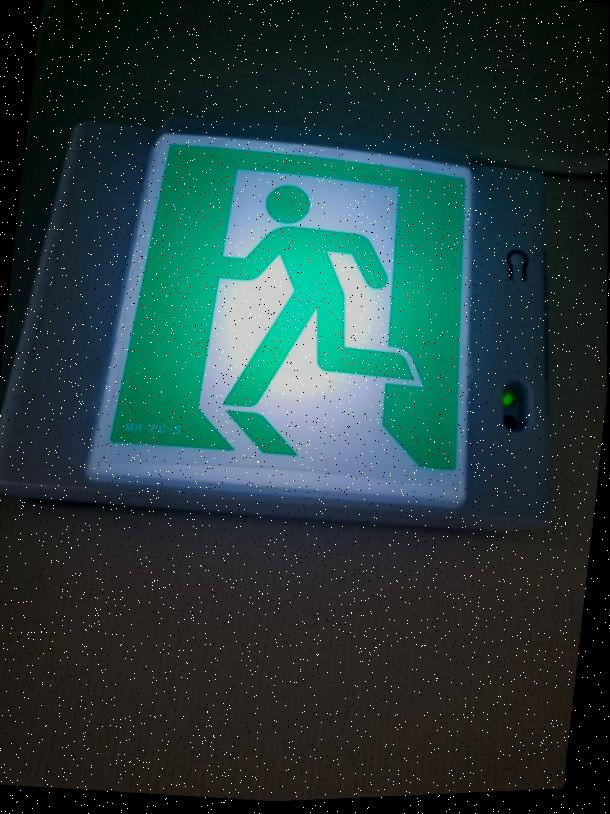emergency_exit: (84, 130, 475, 512)
